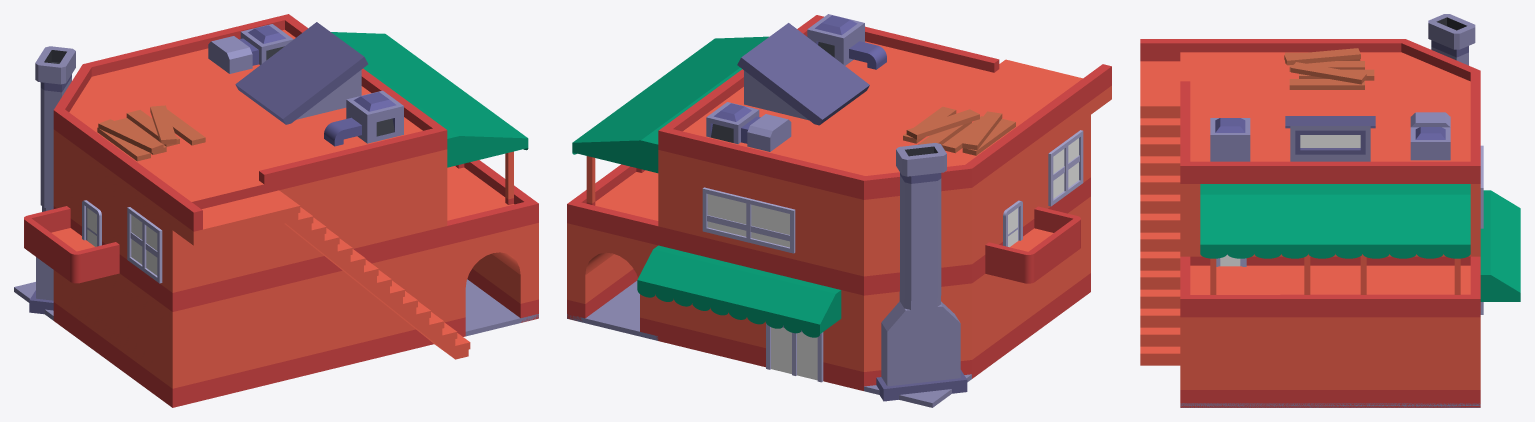
Rendered from Building_05.fbx.
3 views of the same model, side by side, from view 1: azimuth 30°, elevation 25°; view 2: azimuth 150°, elevation 25°; view 3: azimuth 270°, elevation 25° (orthographic). The views are drawn at different scales.
Parts seen in each view (by area): view 1: mergedBlocks; view 2: mergedBlocks; view 3: mergedBlocks.
Part boxes in pixels (<box>): mergedBlocks: <box>14,14,538,407</box>; mergedBlocks: <box>567,14,1111,407</box>; mergedBlocks: <box>1140,14,1520,407</box>.
Size of the model in its own units: 225 by 131 by 190.
